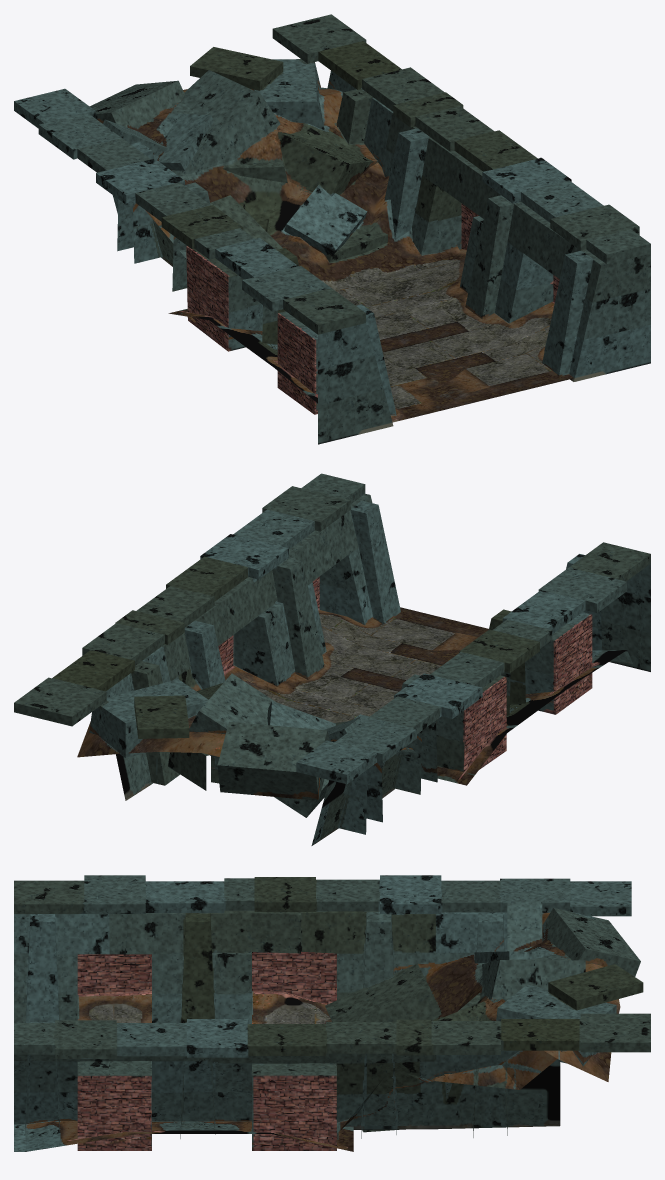
File: deadend.fbx
3 views of the same model, one above another, from view 1: azimuth 30°, elevation 25°; view 2: azimuth 150°, elevation 25°; view 3: azimuth 270°, elevation 25° (orthographic). The views are drawn at different scales.
Parts seen in each view (by area): view 1: deadend LP; view 2: deadend LP; view 3: deadend LP.
Boxes of the visible parts, x1,y1,x2,y2 form: deadend LP: (14, 14, 650, 444); deadend LP: (14, 473, 650, 845); deadend LP: (14, 875, 650, 1151).
Size of the model in its own units: 957 by 366 by 1481.
